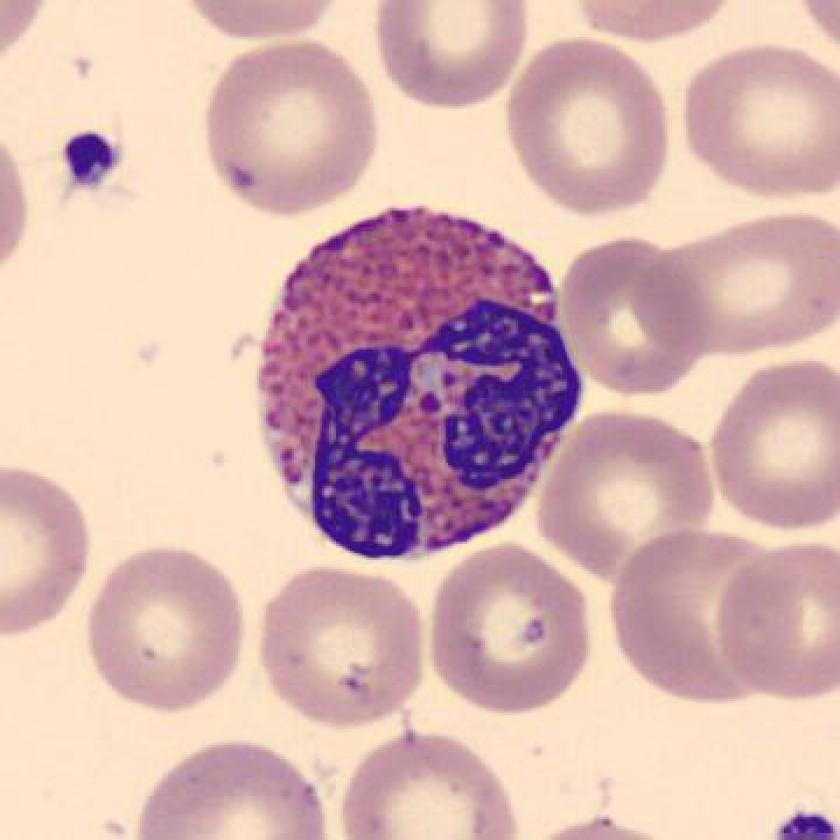eosinophil: (248, 200, 594, 584)
